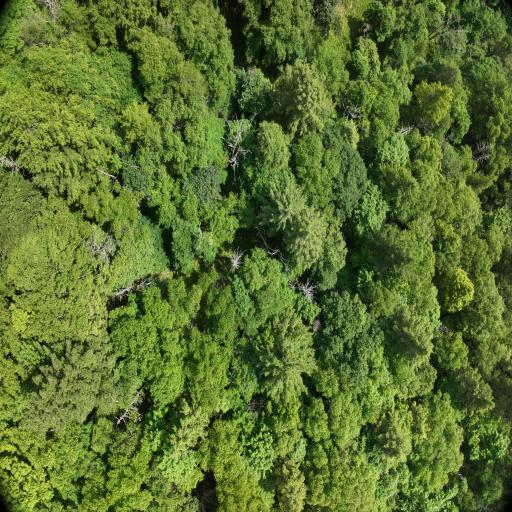dead-tree: (221, 107, 255, 172), (425, 10, 468, 56), (88, 234, 116, 266), (400, 112, 429, 138), (113, 281, 152, 300), (472, 136, 496, 166), (293, 279, 318, 303), (225, 246, 247, 273), (0, 154, 23, 175)
